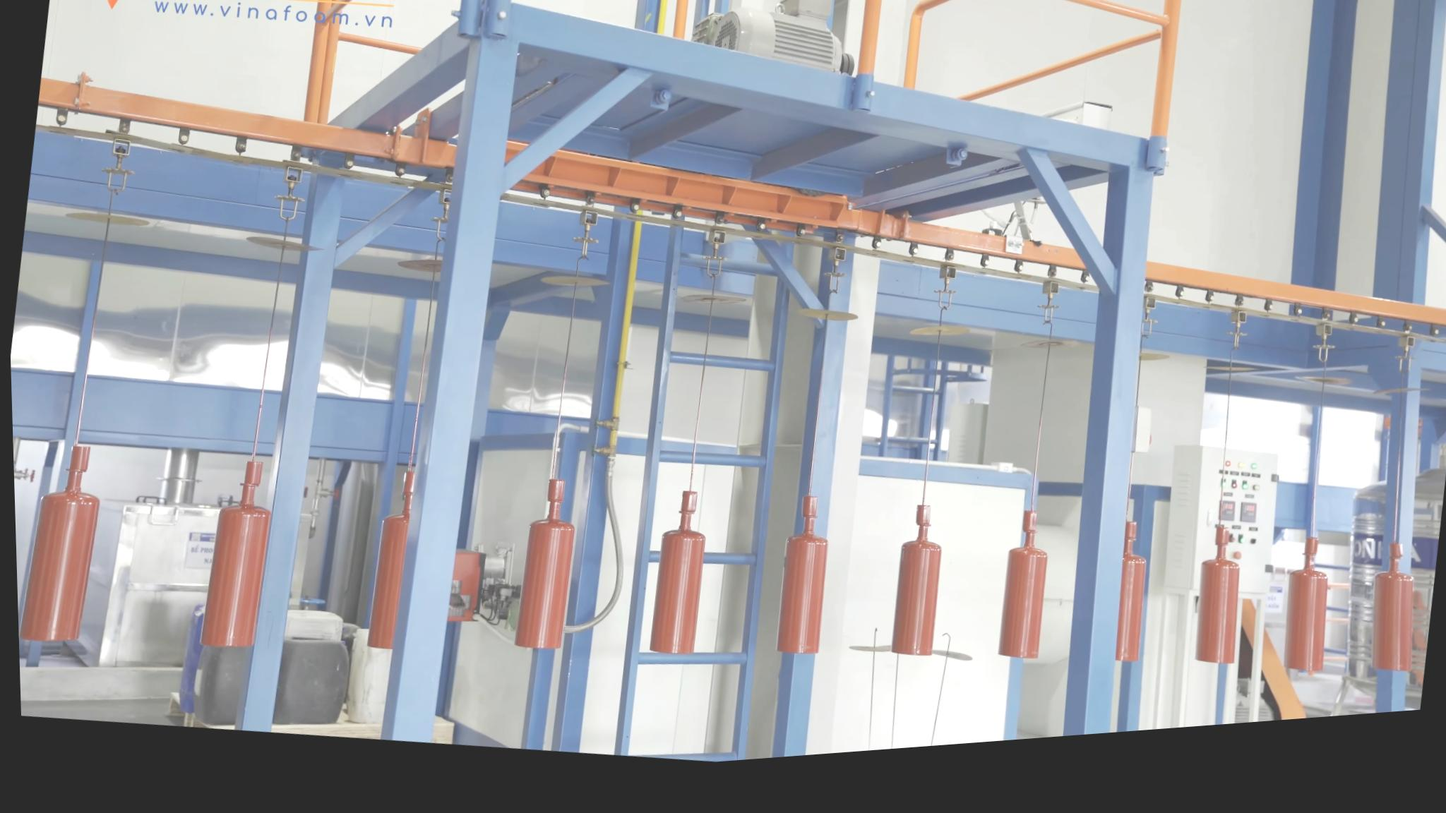FireExtinguisher: (10, 433, 114, 665), (184, 453, 290, 676), (342, 455, 446, 673), (632, 482, 728, 684), (496, 482, 595, 677), (752, 488, 846, 681), (867, 501, 963, 684), (979, 507, 1068, 687), (1347, 563, 1437, 735), (1080, 515, 1169, 686), (1267, 543, 1358, 706), (1178, 525, 1259, 693)
